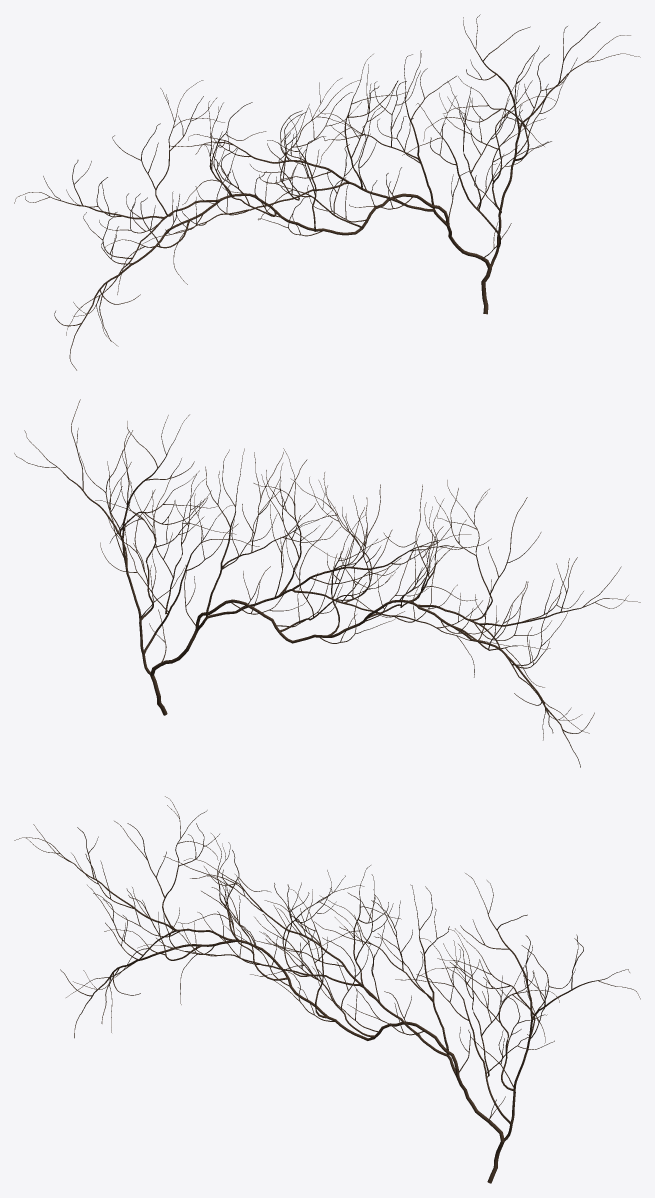
Rendered from Drvo 02.dae.
3 views of the same model, one above another, from view 1: azimuth 30°, elevation 25°; view 2: azimuth 150°, elevation 25°; view 3: azimuth 330°, elevation 25° (orthographic).
Visible parts, largest first — view 1: Drvo 02; view 2: Drvo 02; view 3: Drvo 02.
Boxes of the visible parts, box(x1,y1,x2,y2) form: Drvo 02: box(14, 14, 640, 370); Drvo 02: box(14, 399, 640, 767); Drvo 02: box(14, 796, 640, 1183).
Size of the model in its own units: 4.47 by 0.3363 by 2.09.
